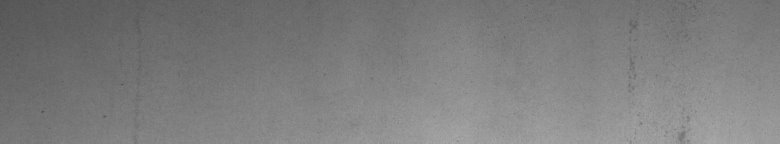ib: (628, 21, 686, 136)
